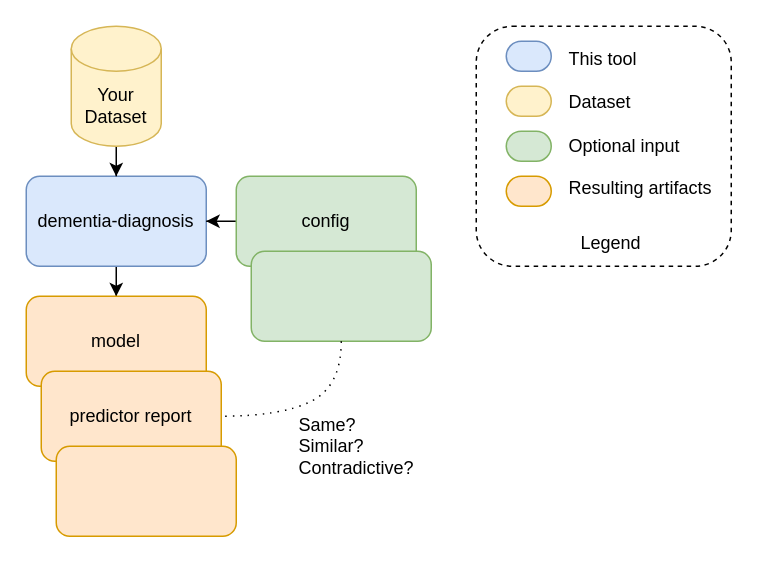
This 758x563 diagram has some shape labels left out. The centre of each missing label's shape, as x and y in pixels:
"personalization" belongs at [145,490].
"predictors" belongs at [340,295].
